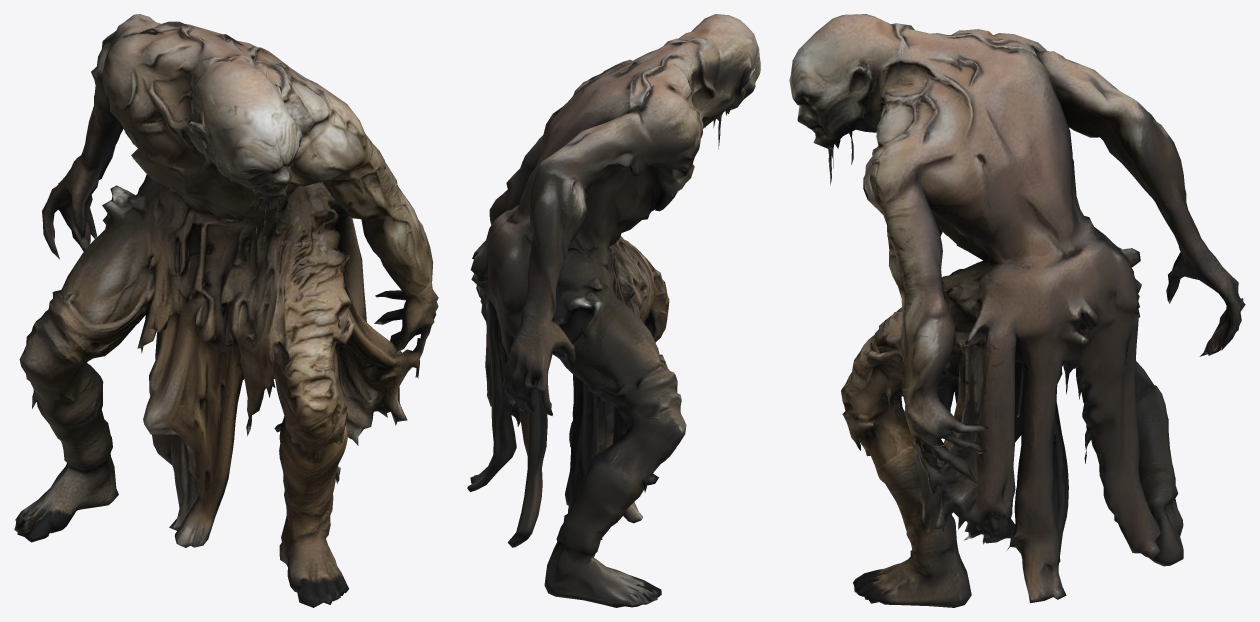
File: Mud Elemental_final.glb
3 views of the same model, side by side, from view 1: azimuth 30°, elevation 25°; view 2: azimuth 150°, elevation 25°; view 3: azimuth 270°, elevation 25° (orthographic). The views are drawn at different scales.
Visible parts, largest first — view 1: Mesh_0; view 2: Mesh_0; view 3: Mesh_0.
Part boxes in pixels (x1,y1,x2,y2): Mesh_0: [14, 14, 438, 607]; Mesh_0: [467, 14, 760, 607]; Mesh_0: [789, 14, 1245, 607].
Bounding box in the file's own units: 1.2 × 2 × 1.55.
Materials: 1 (1 with a texture image).
